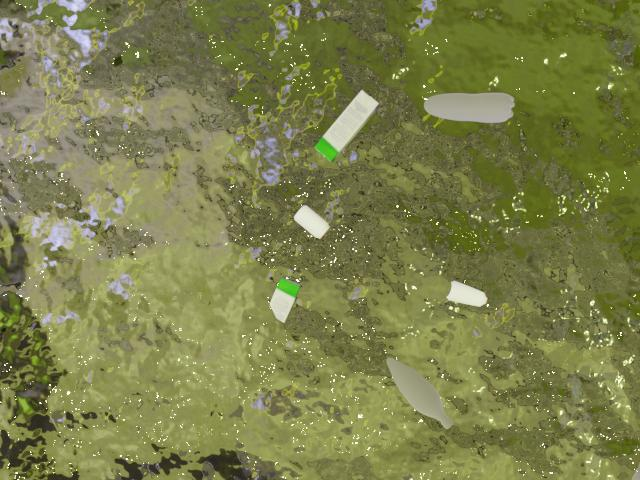Metal: (285, 189, 333, 245), (442, 265, 494, 315)
Plastic: (377, 344, 462, 462), (420, 69, 518, 149)
Trash: (312, 72, 377, 159), (249, 276, 308, 330)
